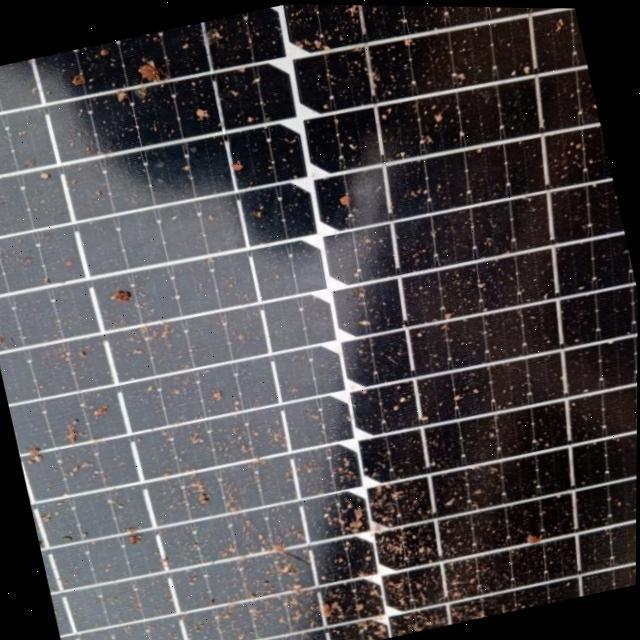Surface Contaminant: (0, 4, 638, 640)
